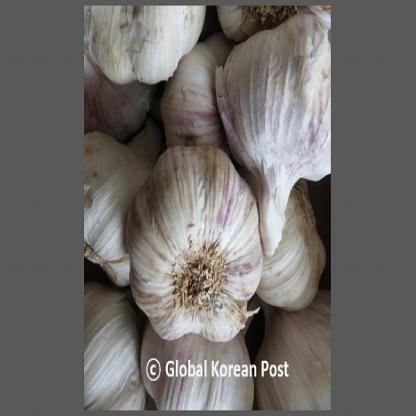garlic: (130, 152, 264, 343), (214, 31, 330, 224), (268, 292, 350, 416), (80, 1, 213, 77), (86, 121, 143, 282), (265, 198, 323, 314), (82, 295, 134, 415)
